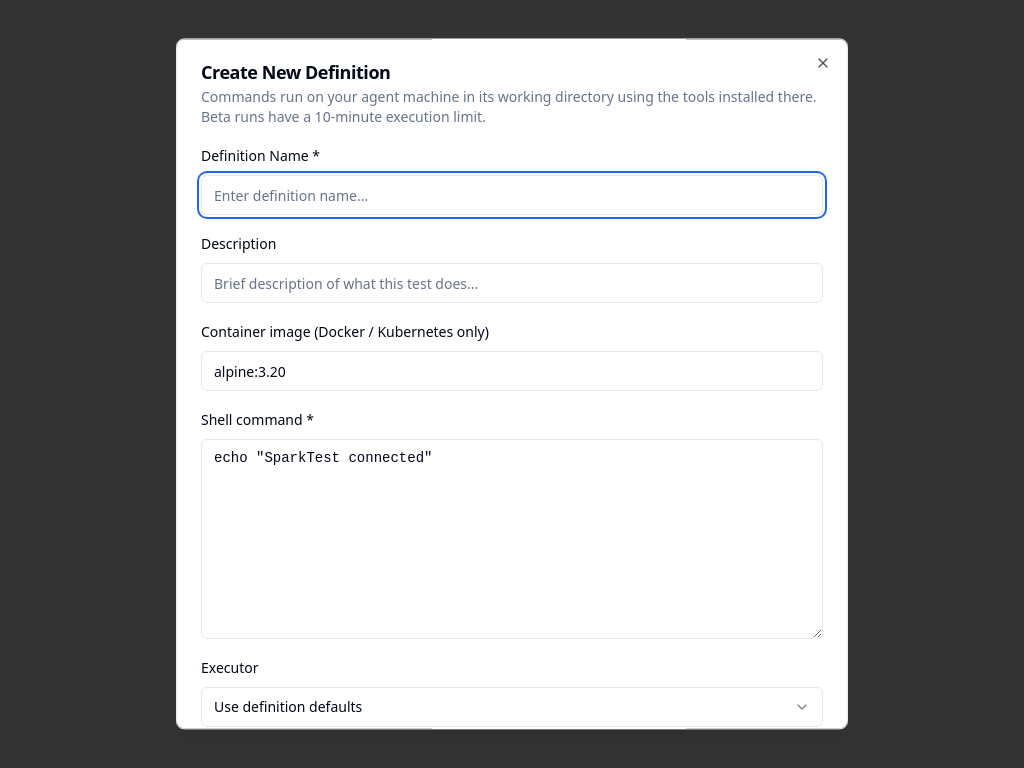
preserves the command and keeps the dialog open when saving fails
Step 1. Type "Smoke" into the field labelled "Definition Name *" → point(512, 195), box 201,175 -> 823,215
(page scrolled)
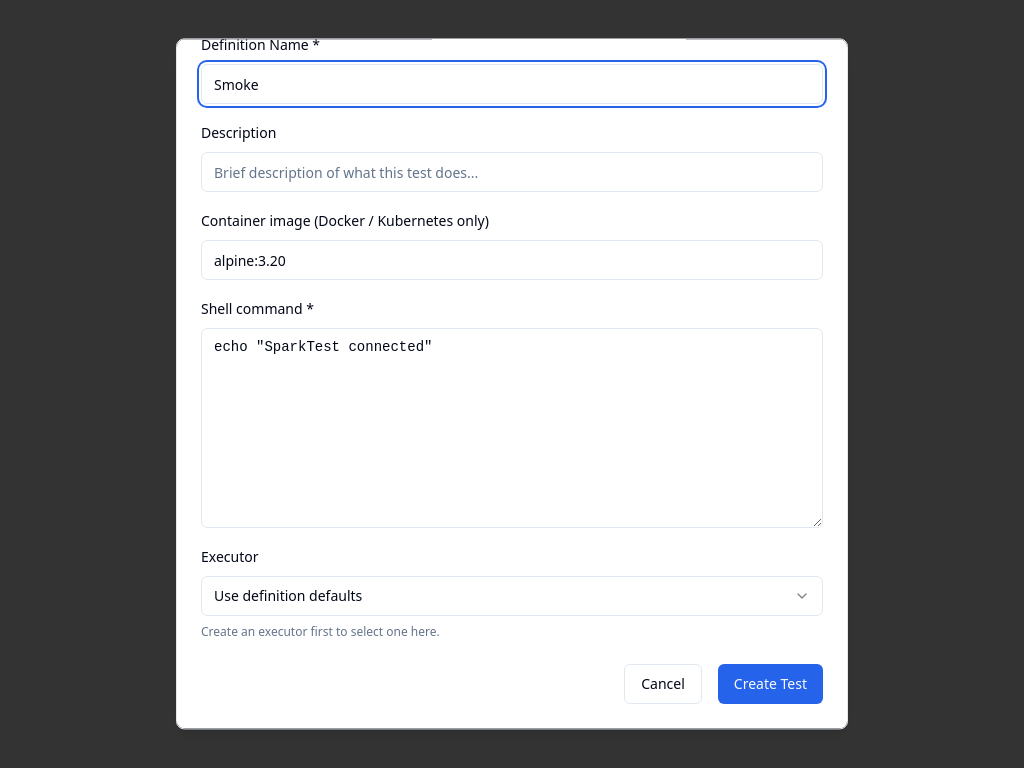
Step 2. Click the button "Create Test" → point(770, 684), box 718,664 -> 823,704
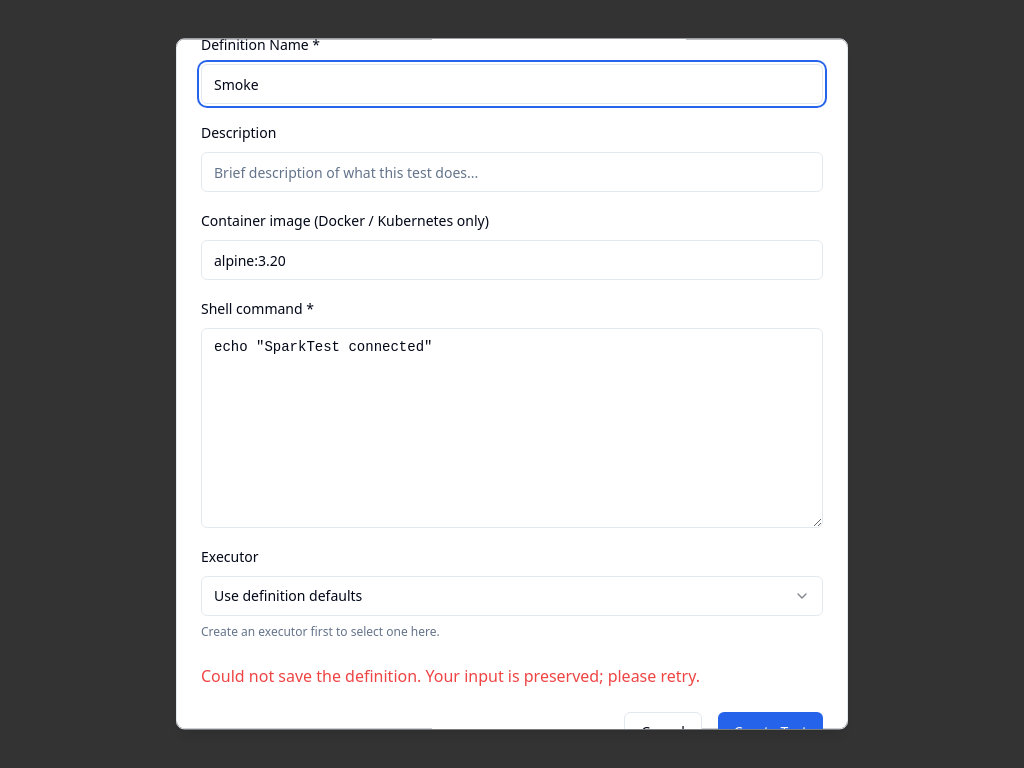
Expected: the text box labelled "Shell command *" holds "echo \"SparkTest connected\"", 201,328 -> 823,528
Expected: the message shows "Your input is preserved", 201,665 -> 700,687
